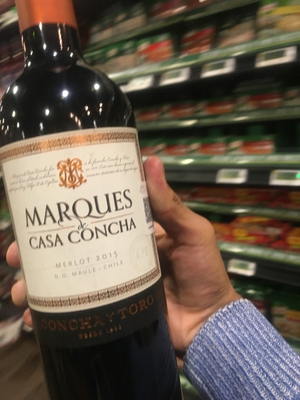marques de casa concha merlot: (2, 37, 182, 398)
